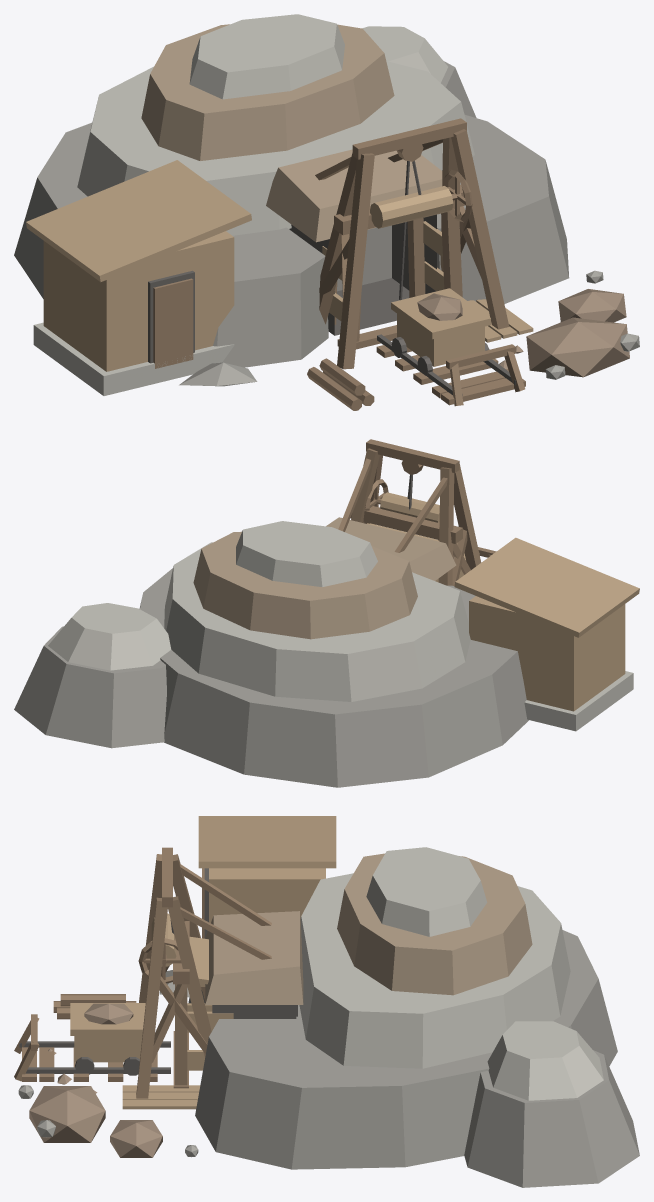
The model's file is era1-mine-BtTDIkq1.glb.
The picture shows the model from 3 angles, top to bottom: view 1: azimuth 30°, elevation 25°; view 2: azimuth 150°, elevation 25°; view 3: azimuth 270°, elevation 25°; orthographic projection. The views are drawn at different scales.
Parts seen in each view (by area): view 1: Mine_RockBase, Mine_RockTop, Mine_RockMid, Mine_Shed, Mine_ShedRoof, Mine_RockCap, Mine_RockBrow, Mine_OrePile1, Mine_ShedFooting, Mine_HeadLegFL, Mine_AditDark, Mine_ShedDoor (+21 smaller); view 2: Mine_RockBase, Mine_RockMid, Mine_RockTop, Mine_CragBase, Mine_Shed, Mine_ShedRoof, Mine_RockCap, Mine_CragTop, Mine_RockBrow, Mine_ShedFooting, Mine_PortalLintel, Mine_HeadLegFL (+6 smaller); view 3: Mine_RockBase, Mine_RockMid, Mine_CragBase, Mine_RockTop, Mine_RockCap, Mine_RockBrow, Mine_ShedRoof, Mine_CragTop, Mine_Shed, Mine_OrePile1, Mine_HeadLegFR, Mine_HeadLegBR (+19 smaller).
Part boxes in pixels (x1,y1,x2,y2): Mine_RockBase: (14,115,569,367); Mine_RockTop: (141,24,394,160); Mine_RockMid: (77,61,474,235); Mine_Shed: (43,231,234,371); Mine_ShedRoof: (26,160,251,282); Mine_RockCap: (189,14,344,99); Mine_RockBrow: (266,149,442,242); Mine_OrePile1: (526,317,629,377); Mine_ShedFooting: (33,322,234,395); Mine_HeadLegFL: (337,153,374,369); Mine_AditDark: (289,214,436,335); Mine_ShedDoor: (153,278,193,368); Mine_RockBase: (139,568,528,787); Mine_RockMid: (164,542,470,701); Mine_RockTop: (193,531,417,639); Mine_CragBase: (14,626,166,748); Mine_Shed: (469,596,625,711); Mine_ShedRoof: (454,537,639,637); Mine_RockCap: (236,521,377,587); Mine_CragTop: (48,603,171,670); Mine_RockBrow: (326,517,456,580); Mine_ShedFooting: (524,671,633,731); Mine_PortalLintel: (350,506,462,543); Mine_HeadLegFL: (454,464,481,569); Mine_RockBase: (188,930,617,1169); Mine_RockMid: (299,873,570,1068); Mine_CragBase: (464,1050,639,1187); Mine_RockTop: (337,853,532,995); Mine_RockCap: (366,847,487,936); Mine_RockBrow: (205,911,303,1004); Mine_ShedRoof: (198,816,336,868); Mine_CragTop: (487,1021,603,1100); Mine_Shed: (209,868,325,922); Mine_OrePile1: (29,1086,105,1142); Mine_HeadLegFR: (136,897,167,1098); Mine_HeadLegBR: (168,896,211,1057).
Size of the model in its own units: 8.74 by 3.41 by 9.08.
